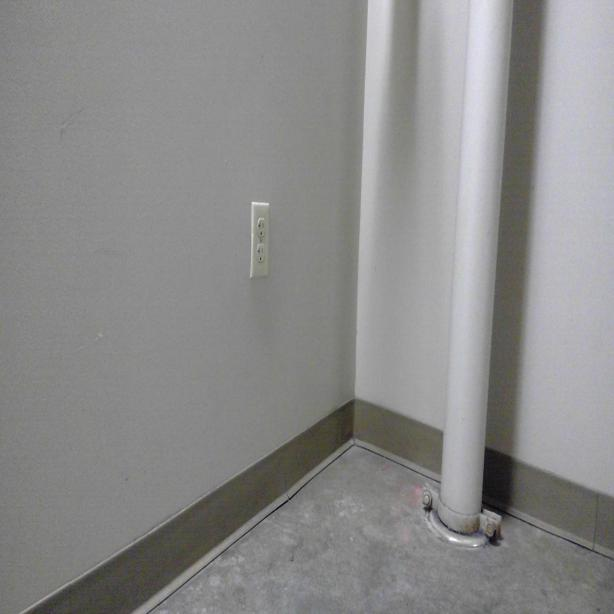typeb: (256, 215, 266, 237), (257, 244, 265, 264)
